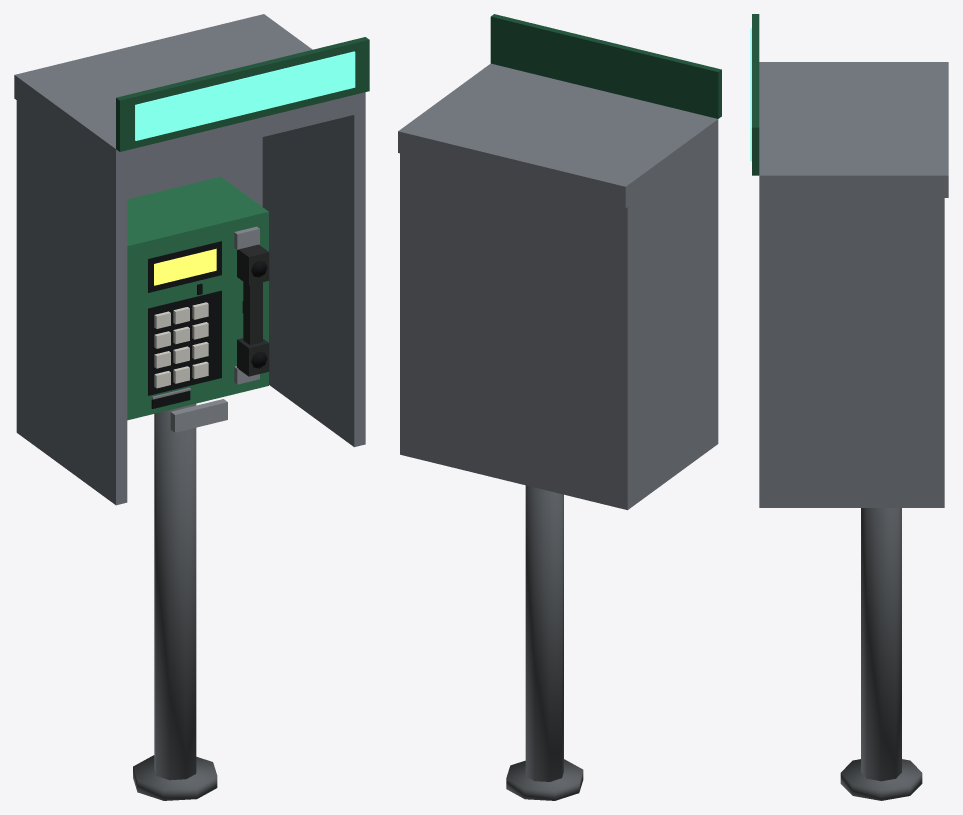
The model's file is payphone_low.glb.
The picture shows the model from 3 angles, left to right: view 1: azimuth 30°, elevation 25°; view 2: azimuth 150°, elevation 25°; view 3: azimuth 270°, elevation 25°; orthographic projection. The views are drawn at different scales.
Visible parts, largest first — view 1: payphone_low; view 2: payphone_low; view 3: payphone_low.
Boxes of the visible parts, x1,y1,x2,y2 form: payphone_low: (14, 14, 369, 800); payphone_low: (398, 14, 721, 800); payphone_low: (750, 14, 948, 800).
Size of the model in its own units: 0.66 by 1.93 by 0.487.
